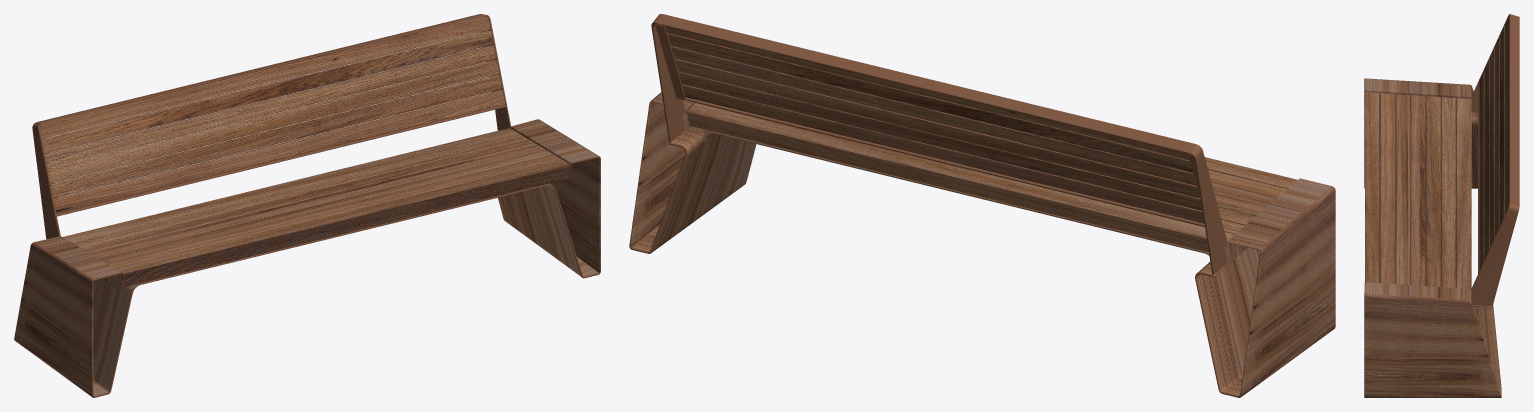
File: table601.glb
3 views of the same model, side by side, from view 1: azimuth 30°, elevation 25°; view 2: azimuth 150°, elevation 25°; view 3: azimuth 270°, elevation 25° (orthographic). The views are drawn at different scales.
Visible parts, largest first — view 1: VM_ME2_060; view 2: VM_ME2_060; view 3: VM_ME2_060.
Boxes of the visible parts, left/top/right/bottom form: VM_ME2_060: left=14, top=14, right=600, bottom=397; VM_ME2_060: left=629, top=14, right=1335, bottom=397; VM_ME2_060: left=1364, top=14, right=1519, bottom=397.
Size of the model in its own units: 2 by 0.7842 by 0.6033.
1 material, 1 textured.
